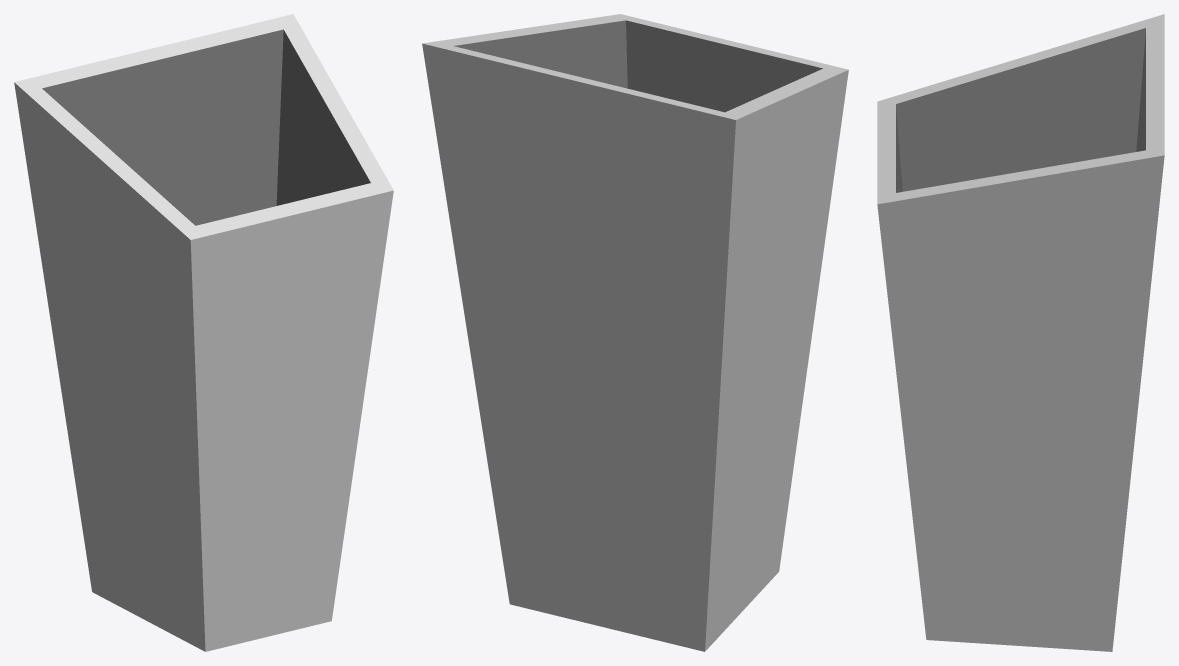
The model's file is trash-bin.glb.
3 renders of one model, left to right at view 1: azimuth 30°, elevation 25°; view 2: azimuth 150°, elevation 25°; view 3: azimuth 270°, elevation 25°, orthographic. The views are drawn at different scales.
Parts seen in each view (by area): view 1: TrashBin; view 2: TrashBin; view 3: TrashBin.
Boxes of the visible parts, bbox=[...] form: TrashBin: bbox=[14, 14, 393, 651]; TrashBin: bbox=[422, 14, 848, 651]; TrashBin: bbox=[877, 14, 1164, 651].
Bounding box in the file's own units: 0.3643 × 0.6287 × 0.3129.
Materials: 1 (1 with a texture image).
